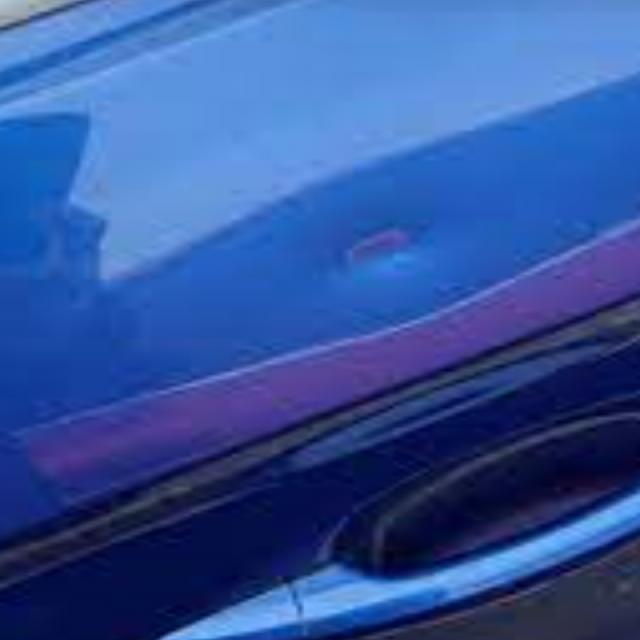dents: (328, 187, 460, 296)
